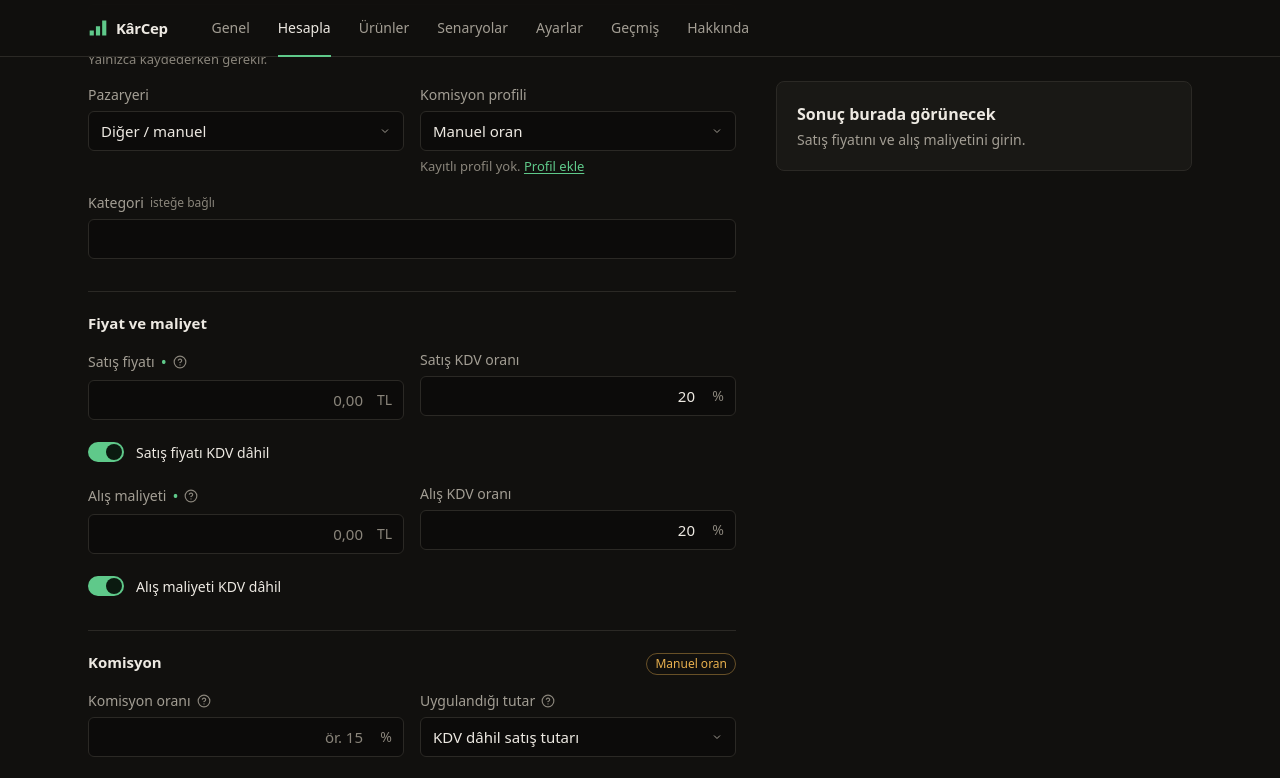
KarcepApp › zararda dağılım çubuğu satış fiyatını aşan gideri ayrıca gösterir
(page scrolled)
Type "100" into the field labelled "Satış fiyatı" at (246,400), box x1=88 y1=380 x2=404 y2=420
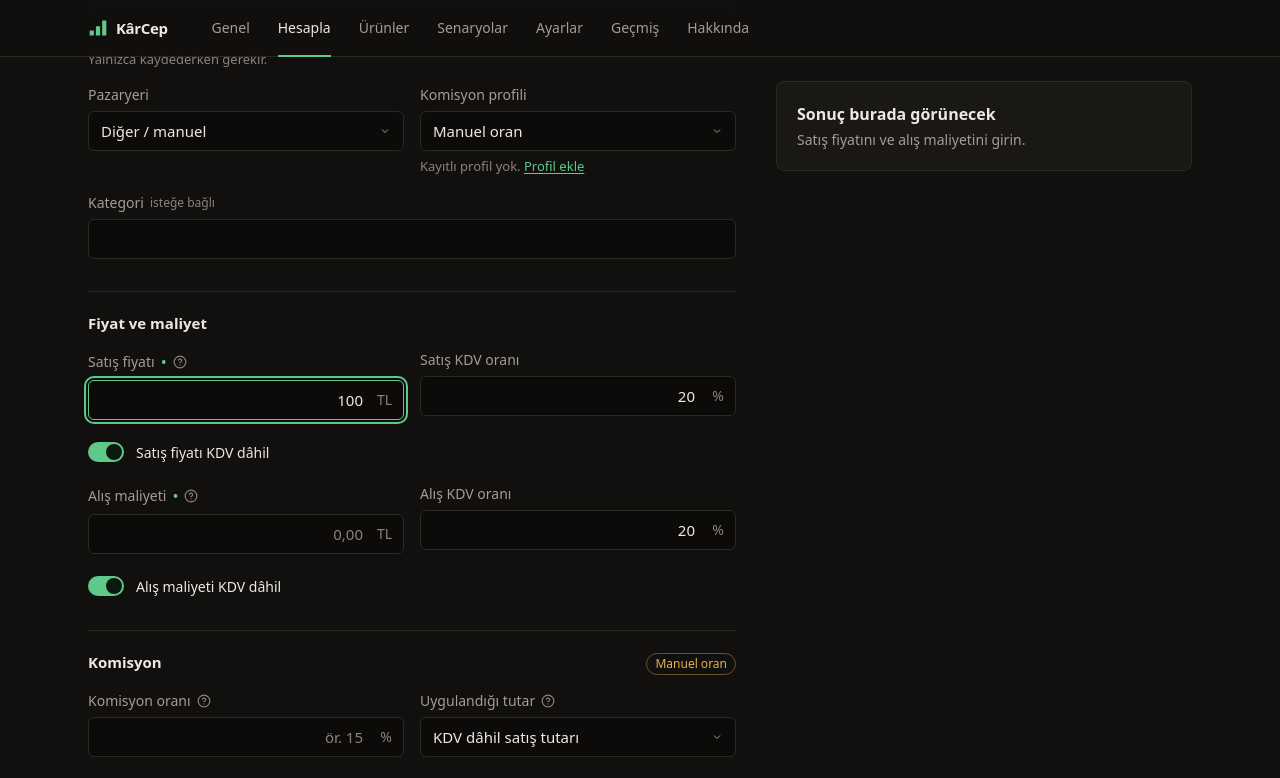
Type "150" into the field labelled "Alış maliyeti" at (246,534), box x1=88 y1=514 x2=404 y2=554
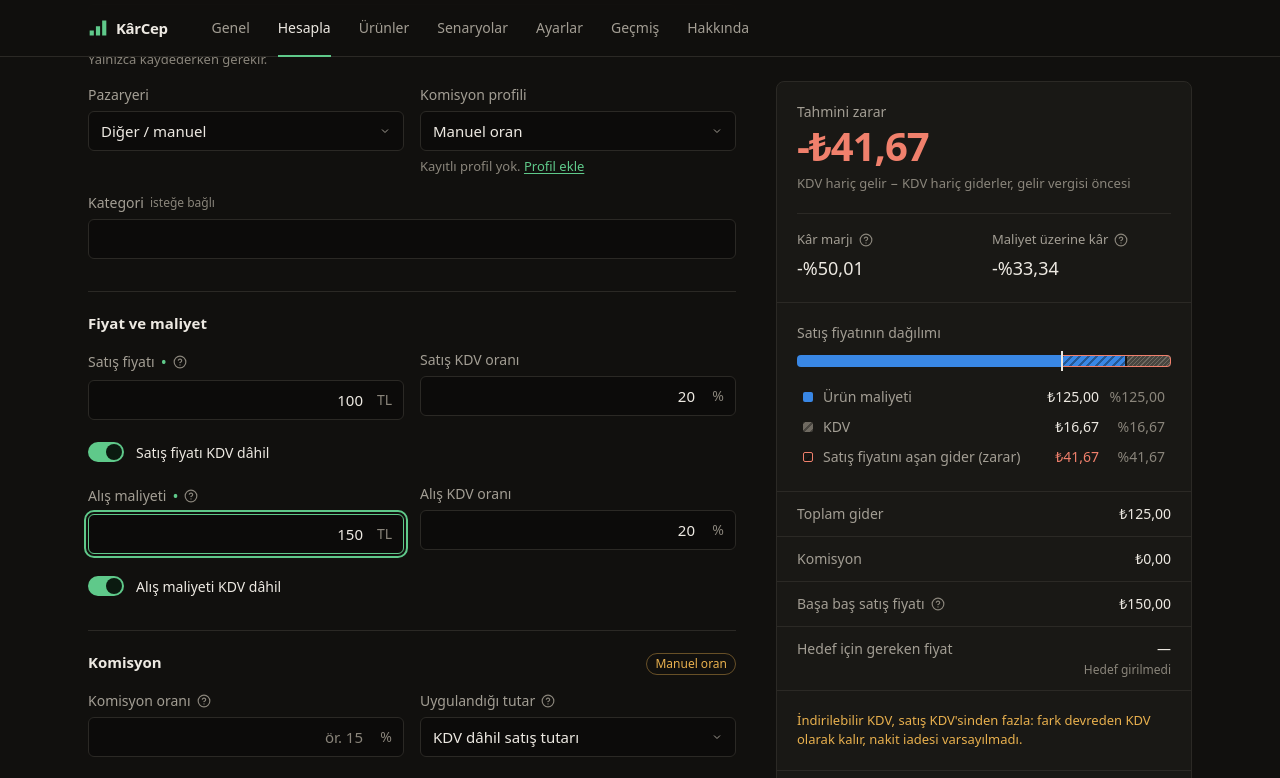
Expected: the text "Tahmini zarar" is shown, x1=797 y1=101 x2=886 y2=120
Expected: the text "Satış fiyatını aşan gider (zarar)" is shown, x1=823 y1=446 x2=1045 y2=466
